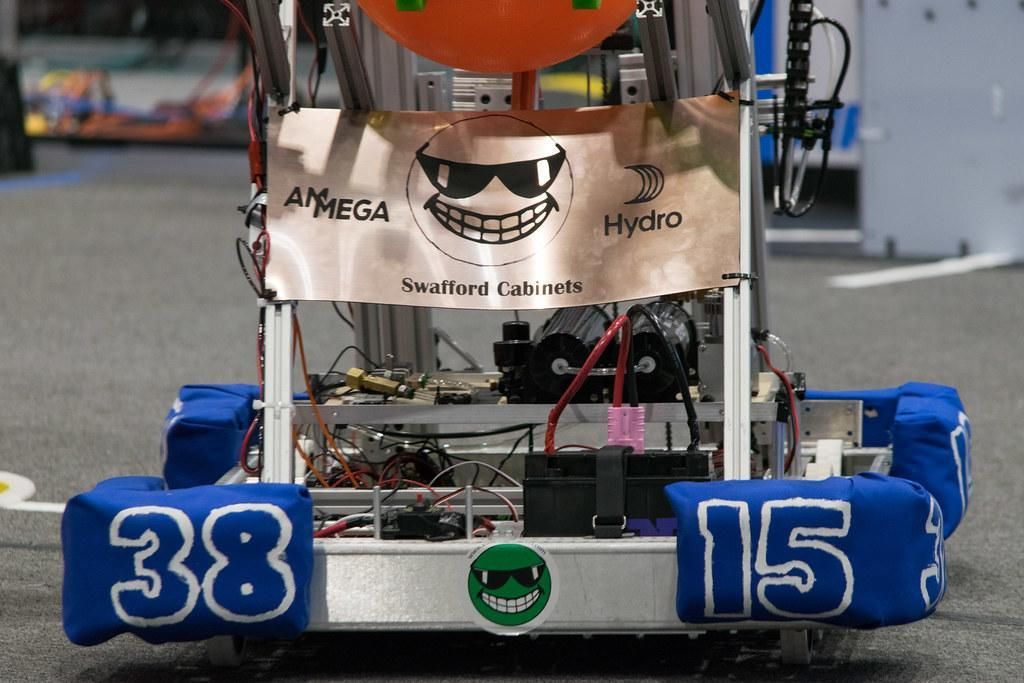robot: (55, 0, 992, 677)
